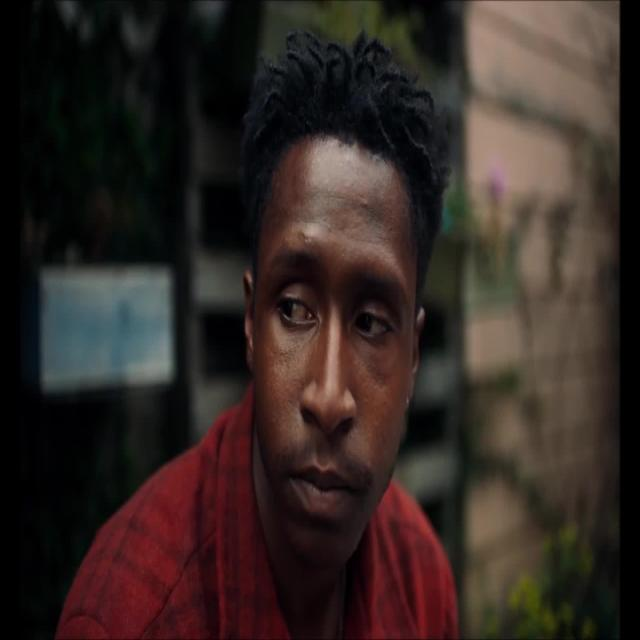sem_oculos: (236, 248, 441, 378)
